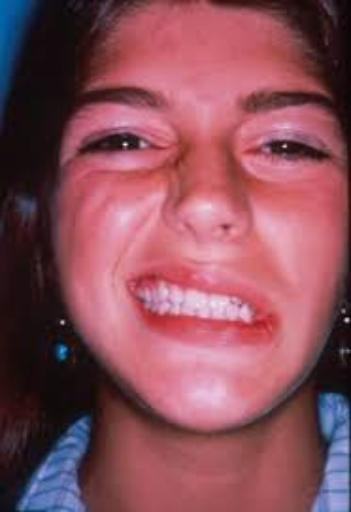left_eye: (242, 136, 327, 168)
left_lip_corner: (248, 290, 288, 339)
right_eye: (85, 129, 164, 162)
right_lip_corner: (120, 268, 151, 299)
